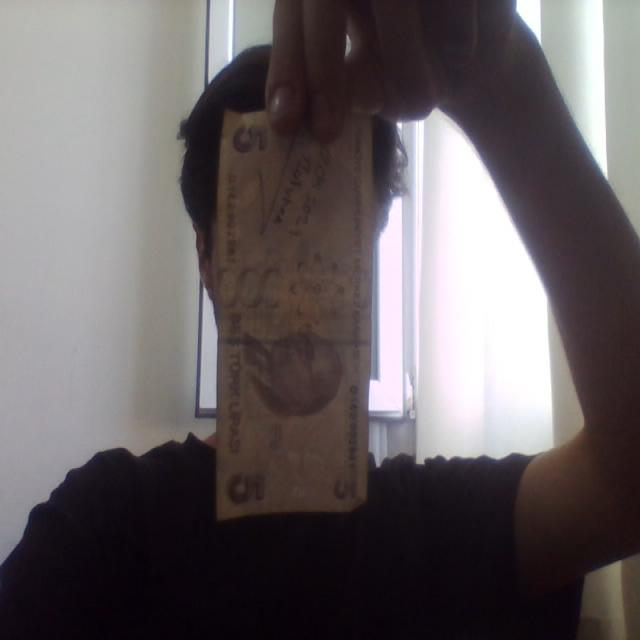5-TL: (220, 108, 372, 519)
